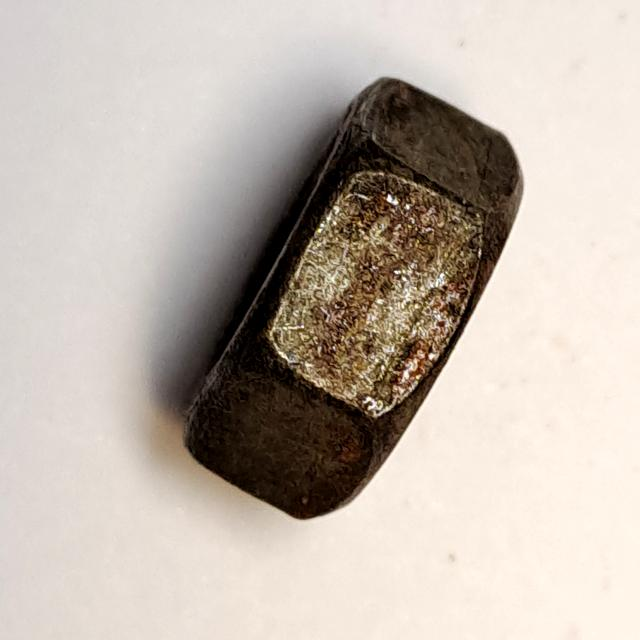Side_Rust: (153, 62, 530, 533)
